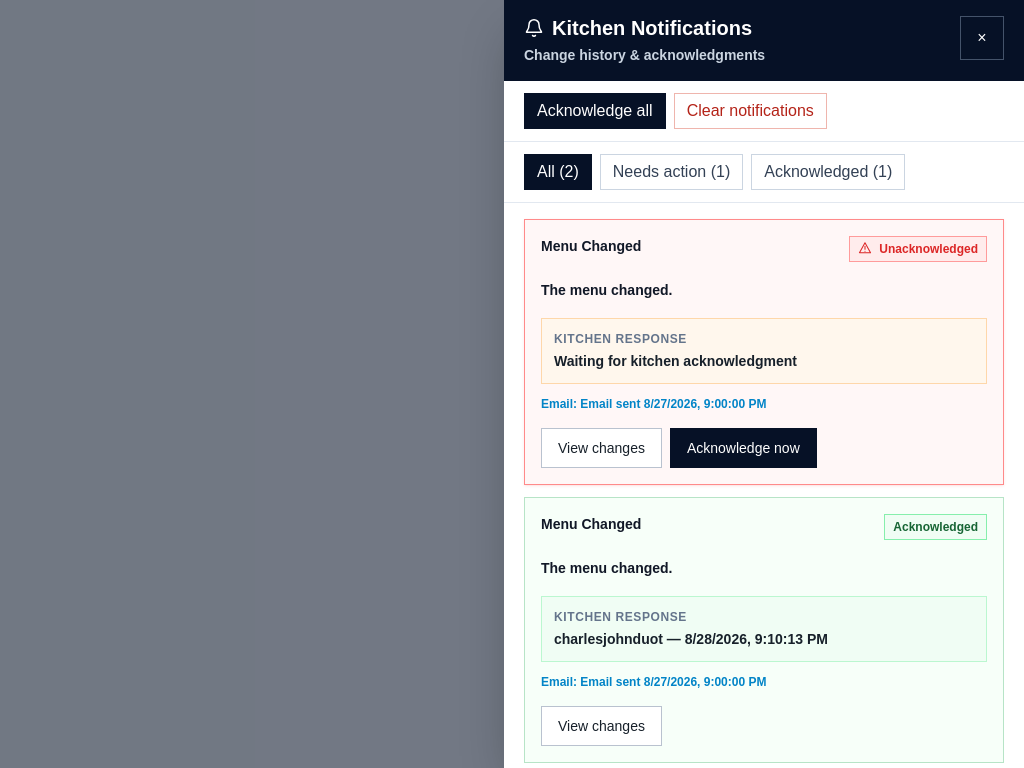
Test case: KitchenNotificationsDrawer filter › lists only what has been acknowledged, with who and when
Click the button "Acknowledged (1)". click: (828, 172)
box: [751,154,905,190]
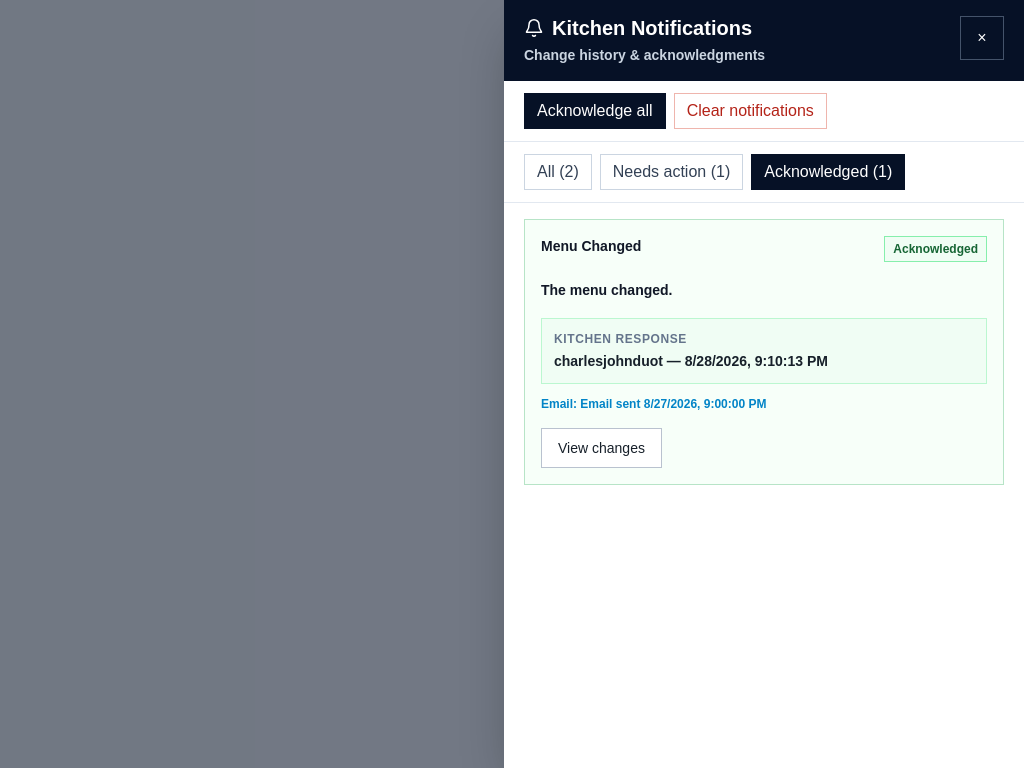
Expected: the text "Acknowledged" is shown, [884,236,987,262]
Expected: the text "Unacknowledged" is gone
Expected: the text "Waiting for kitchen acknowledgment" is gone
